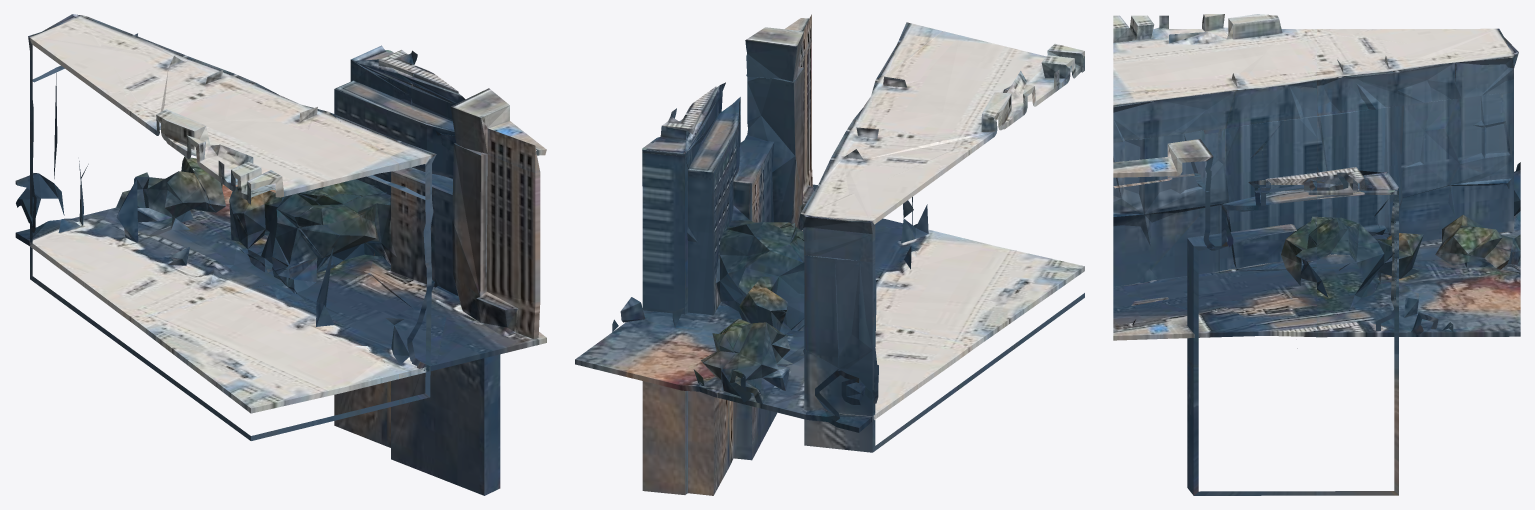
The model's file is chunk_0_-3.glb.
The picture shows the model from 3 angles, left to right: view 1: azimuth 30°, elevation 25°; view 2: azimuth 150°, elevation 25°; view 3: azimuth 270°, elevation 25°; orthographic projection. The views are drawn at different scales.
Parts seen in each view (by area): view 1: hero-chunk; view 2: hero-chunk; view 3: hero-chunk.
Part boxes in pixels (bbox=[...]): hero-chunk: bbox=[15, 14, 546, 495]; hero-chunk: bbox=[575, 14, 1084, 495]; hero-chunk: bbox=[1113, 14, 1520, 495].
Size of the model in its own units: 56.65 by 73.79 by 76.32.
3 materials, 3 textured.
